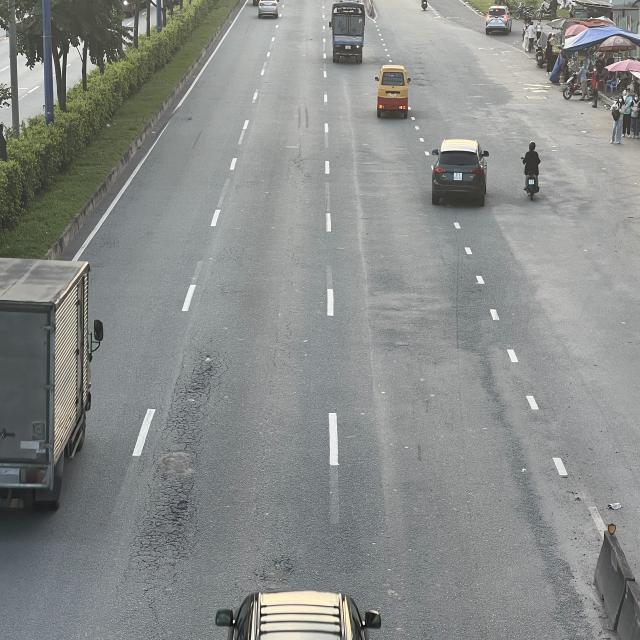car: (432, 137, 492, 205), (484, 5, 513, 35)
truck: (0, 262, 103, 518), (332, 0, 368, 63)
van: (373, 63, 409, 115)
